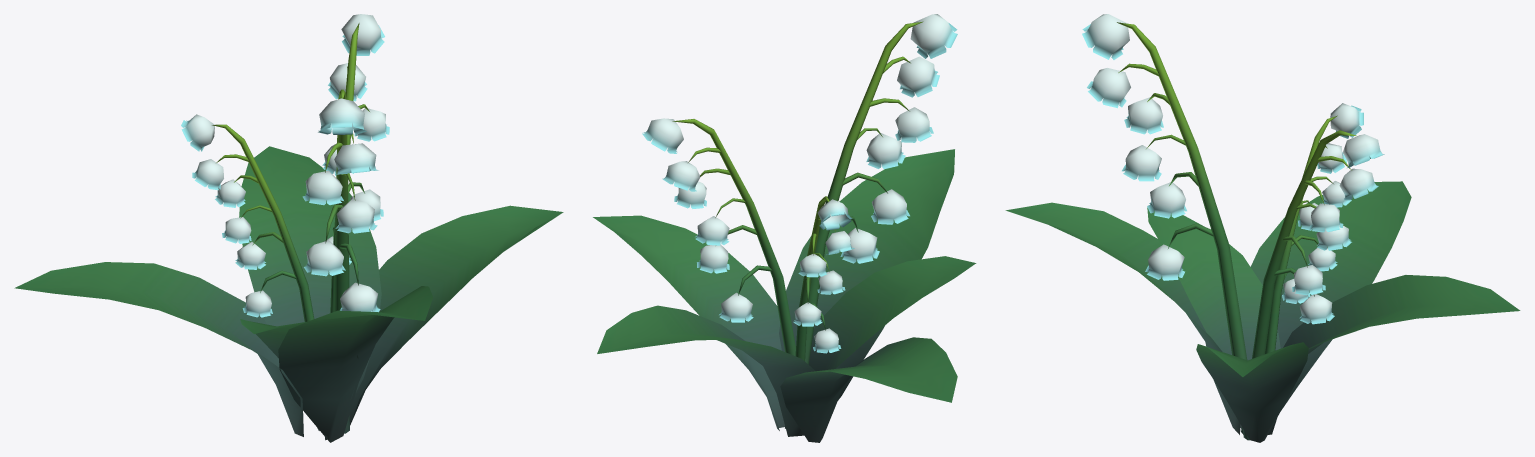
Rendered from flower_006_base_material_0.fbx.
3 views of the same model, side by side, from view 1: azimuth 30°, elevation 25°; view 2: azimuth 150°, elevation 25°; view 3: azimuth 270°, elevation 25° (orthographic). The views are drawn at different scales.
Visible parts, largest first — view 1: flower_006_base_material_0; view 2: flower_006_base_material_0; view 3: flower_006_base_material_0.
Boxes of the visible parts, bbox=[...] form: flower_006_base_material_0: bbox=[14, 14, 563, 442]; flower_006_base_material_0: bbox=[593, 14, 976, 442]; flower_006_base_material_0: bbox=[1005, 14, 1520, 442].
Size of the model in its own units: 3.92 by 3.91 by 3.25.
1 material, 1 textured.
